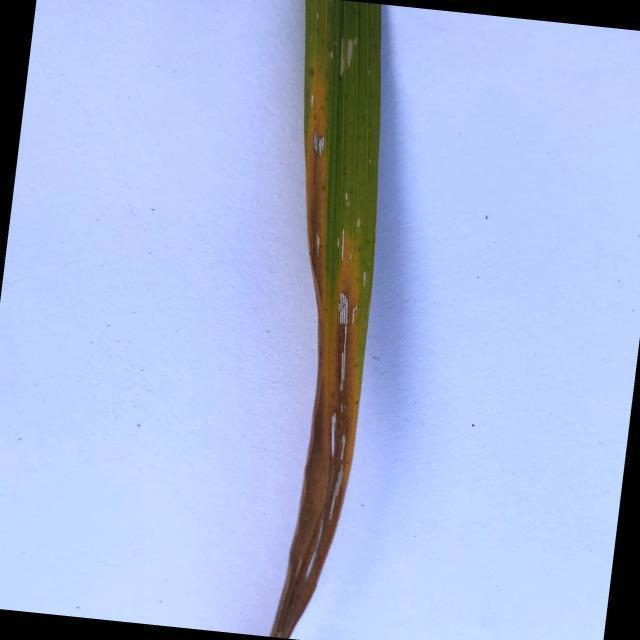Rice Tungro: (270, 49, 362, 640)
